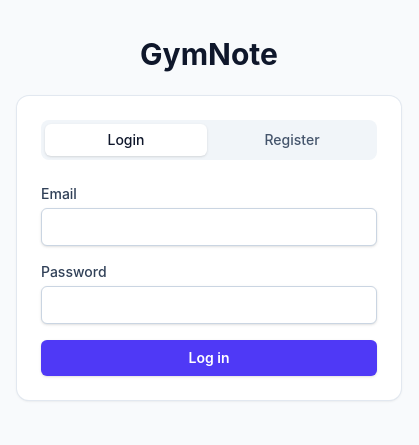
Test: AuthPage › registers and switches back to login with a confirmation
Click the button "Register" at (292, 140), box [211, 124, 373, 156]
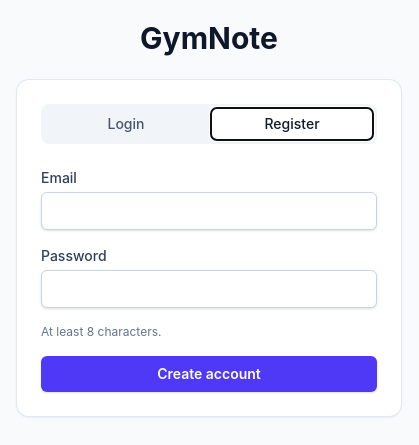
Type "new@example.com" into the field labelled "Email" at (209, 211), box [41, 192, 377, 230]
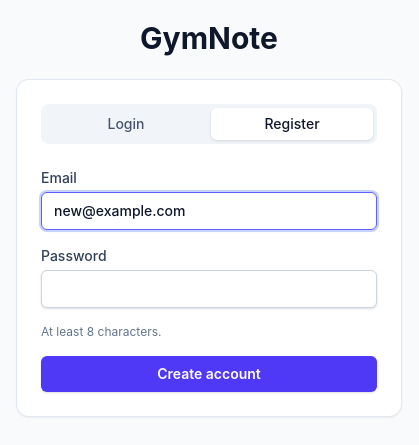
Type "Password123!" into the password field labelled "Password" at (209, 289), box [41, 270, 377, 308]
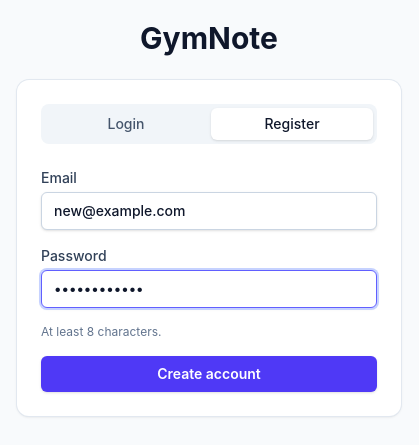
Click the button "Create account" at (209, 374), box [41, 356, 377, 392]
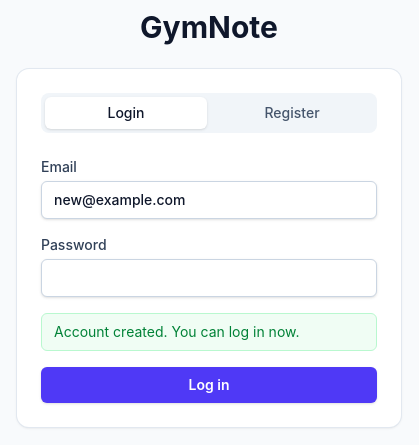
Now the message shows "Account created", box [54, 323, 300, 340]
Now the button "Log in" is shown, box [41, 367, 377, 403]
